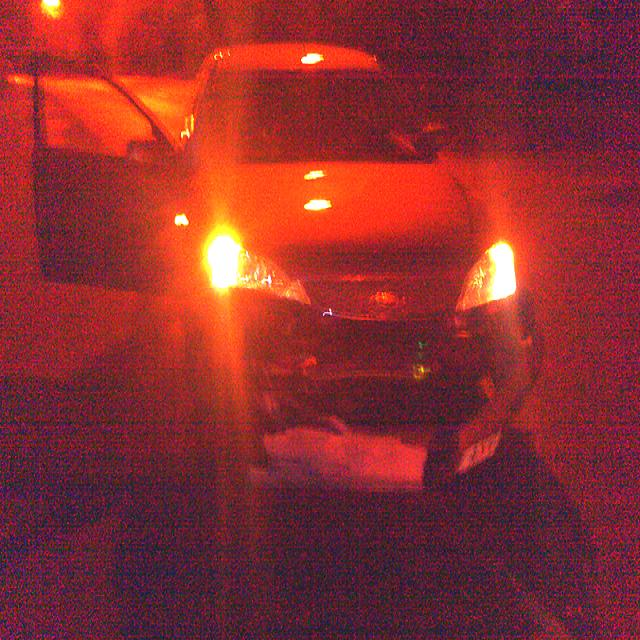Car: (30, 38, 545, 496)
